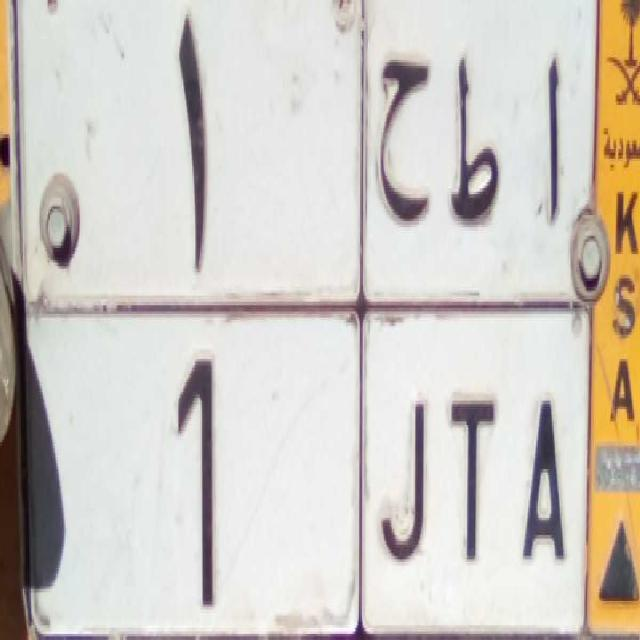license_plate: (19, 295, 588, 640)
